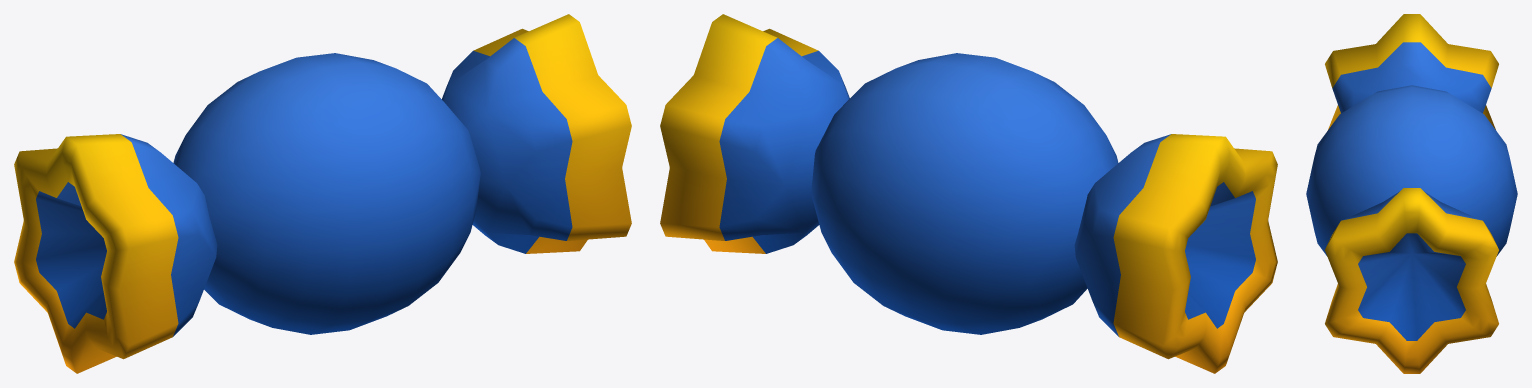
The model's file is candy_015.glb.
3 renders of one model, left to right at view 1: azimuth 30°, elevation 25°; view 2: azimuth 150°, elevation 25°; view 3: azimuth 270°, elevation 25°, orthographic. The views are drawn at different scales.
Visible parts, largest first — view 1: candy_015; view 2: candy_015; view 3: candy_015.
Boxes of the visible parts, x1=… form: candy_015: x1=14, y1=14, x2=631, y2=373; candy_015: x1=660, y1=14, x2=1277, y2=373; candy_015: x1=1306, y1=14, x2=1517, y2=373.
Bounding box in the file's own units: 4.55 × 2.15 × 2.15.
1 material, 1 textured.
